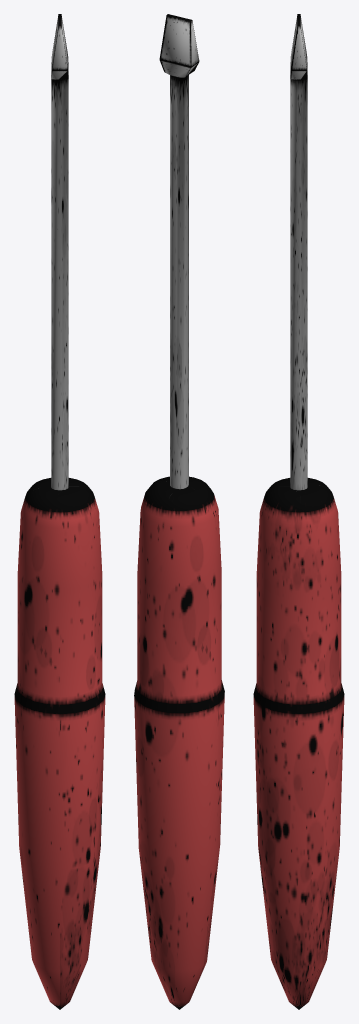
File: screwdriver.obj
The picture shows the model from 3 angles, left to right: view 1: azimuth 90°, elevation 25°; view 2: azimuth 150°, elevation 25°; view 3: azimuth 270°, elevation 25°; orthographic projection.
Visible parts, largest first — view 1: screwdriver; view 2: screwdriver; view 3: screwdriver.
Boxes of the visible parts, x1,y1,x2,y2 form: screwdriver: (14,14,105,1009); screwdriver: (134,14,224,1009); screwdriver: (253,14,344,1009).
Size of the model in its own units: 0.0929 by 1.12 by 0.0929.
